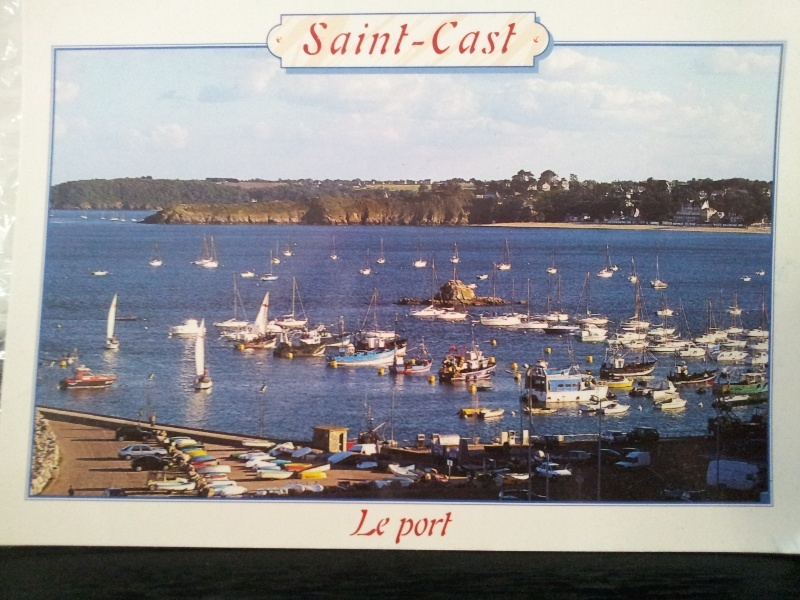text: (305, 20, 320, 56), (321, 20, 336, 56), (337, 20, 352, 56), (353, 20, 368, 56), (369, 20, 384, 56), (385, 20, 400, 56), (401, 20, 416, 56), (417, 20, 432, 56), (433, 20, 448, 56), (449, 20, 464, 56), (465, 20, 480, 56), (481, 20, 496, 56), (497, 20, 512, 56), (369, 508, 384, 541), (417, 512, 432, 545), (433, 512, 448, 545), (354, 508, 368, 541), (403, 512, 416, 545), (385, 508, 395, 541), (449, 512, 456, 545), (513, 20, 519, 56)
